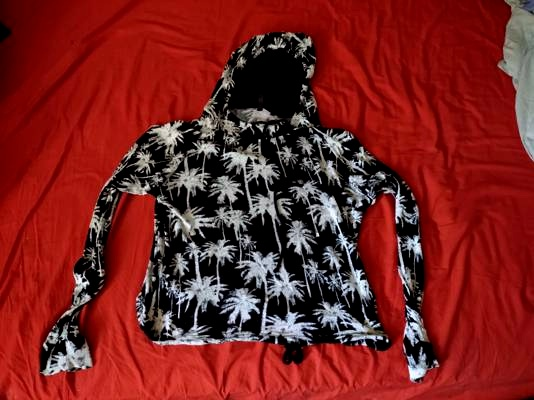Hoodie: (54, 28, 461, 391)
